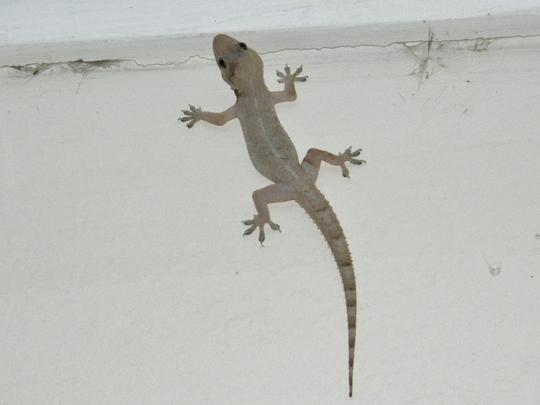lizard: (176, 27, 402, 400)
